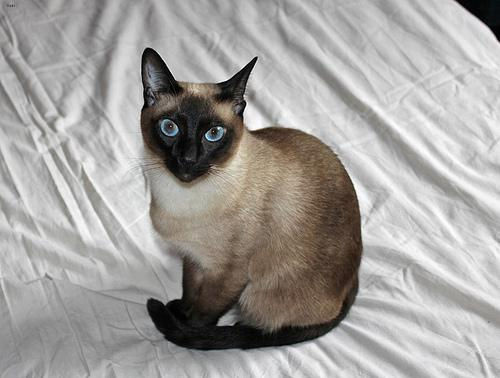cat-Siamese: (139, 46, 256, 181)
